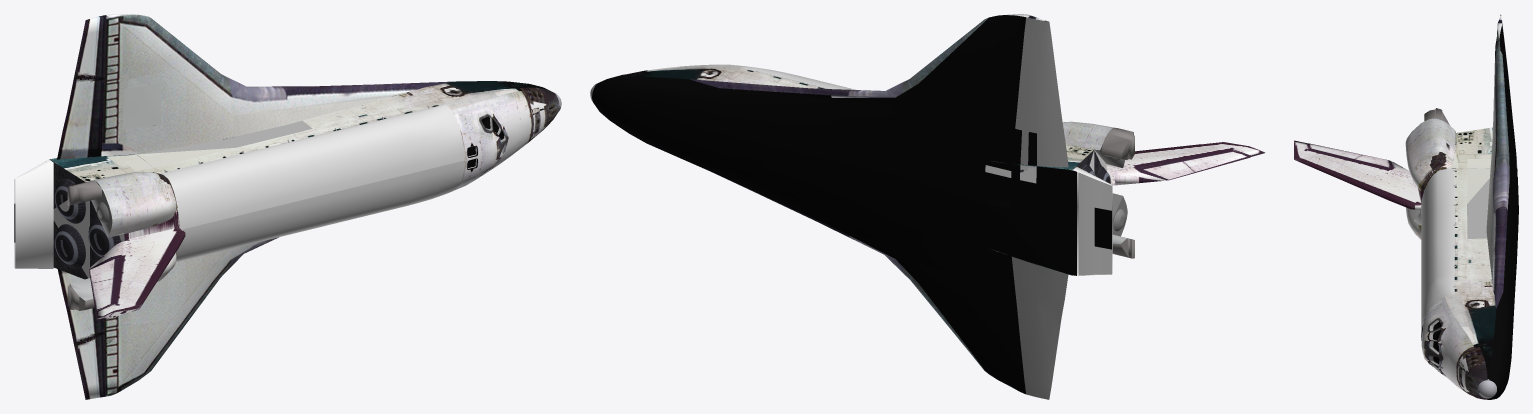
Rendered from shuttle.glb.
3 views of the same model, side by side, from view 1: azimuth 30°, elevation 25°; view 2: azimuth 150°, elevation 25°; view 3: azimuth 270°, elevation 25° (orthographic). The views are drawn at different scales.
Visible parts, largest first — view 1: shut.layer, door-prt.l, door-stb.l; view 2: shut.layer, door-prt.l; view 3: shut.layer, door-prt.l.
Part boxes in pixels (bbox=[...]): shut.layer: bbox=[14, 14, 561, 399]; door-prt.l: bbox=[162, 104, 464, 229]; door-stb.l: bbox=[176, 160, 464, 262]; shut.layer: bbox=[590, 14, 1265, 399]; door-prt.l: bbox=[741, 66, 856, 89]; shut.layer: bbox=[1294, 14, 1518, 399]; door-prt.l: bbox=[1421, 168, 1454, 331].
Bounding box in the file's own units: 1471 × 937 × 555.
50 materials, 11 textured.
